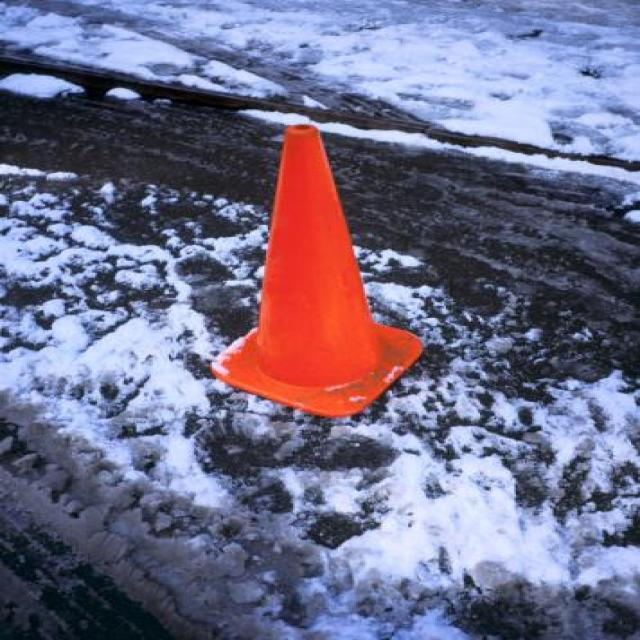Cone: (209, 124, 433, 418)
